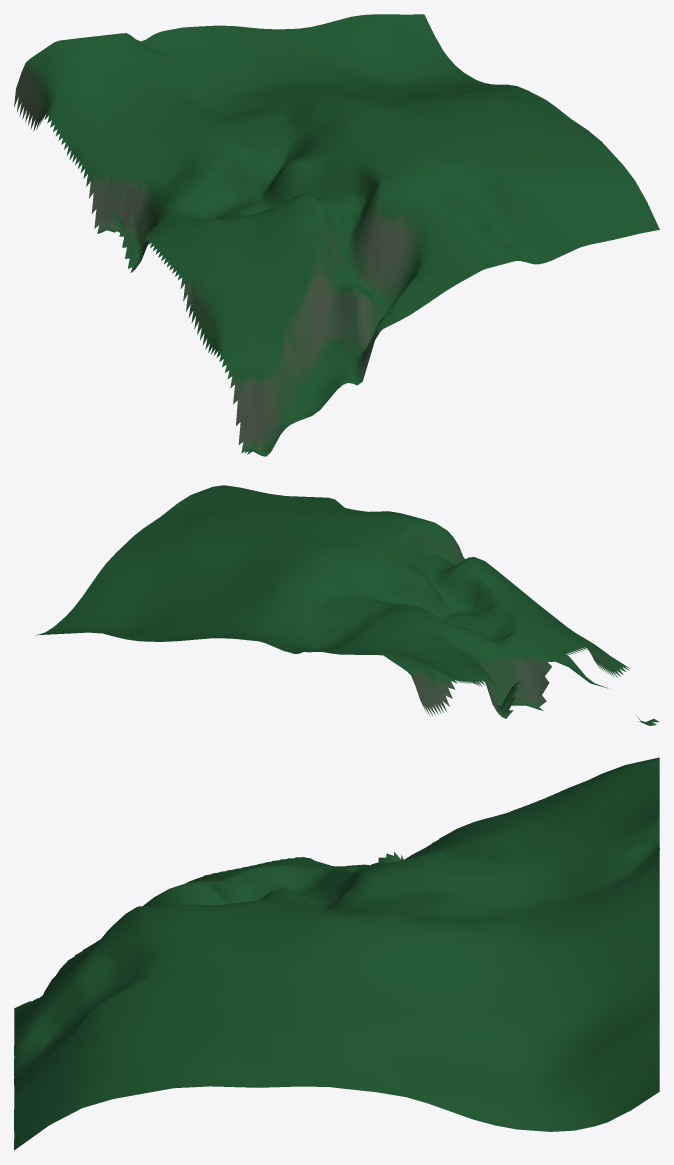
File: payo_land_xm2_y0_lod2.glb
3 views of the same model, one above another, from view 1: azimuth 30°, elevation 25°; view 2: azimuth 150°, elevation 25°; view 3: azimuth 270°, elevation 25° (orthographic). The views are drawn at different scales.
Parts seen in each view (by area): view 1: payo_land_xm2_y0; view 2: payo_land_xm2_y0; view 3: payo_land_xm2_y0.
Boxes of the visible parts, x1=… form: payo_land_xm2_y0: x1=14, y1=14, x2=659, y2=456; payo_land_xm2_y0: x1=35, y1=485, x2=659, y2=725; payo_land_xm2_y0: x1=14, y1=757, x2=659, y2=1150.
Size of the model in its own units: 258 by 141 by 255.
